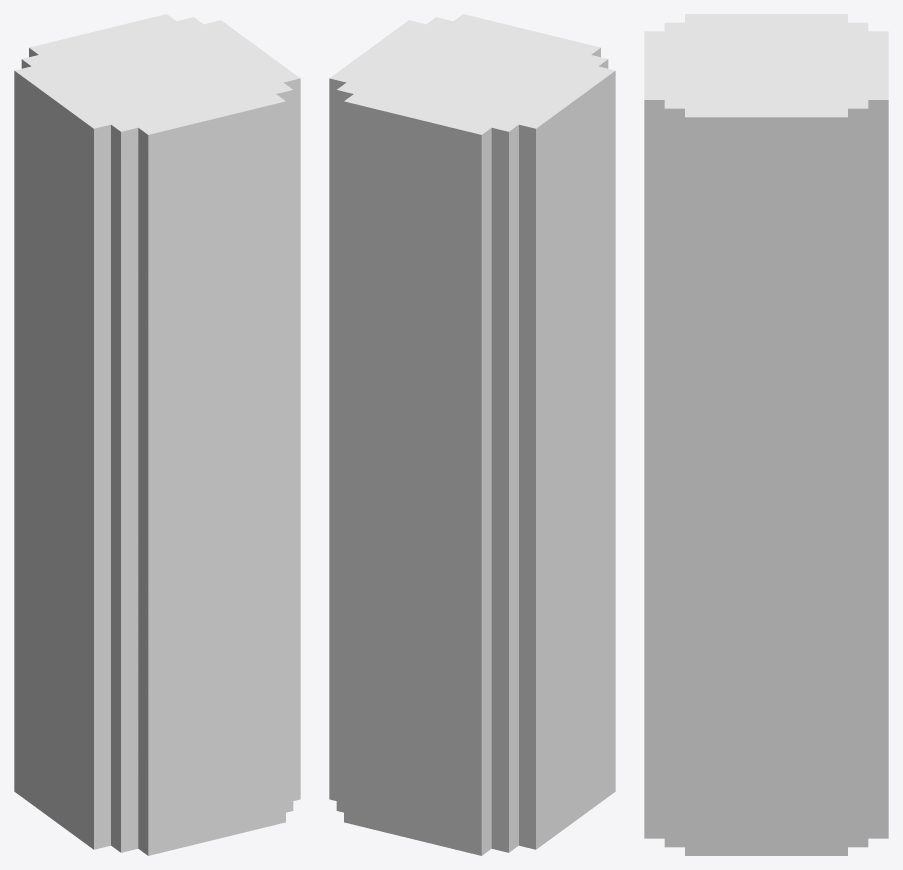
Rendered from CrystalPillar.dae.
3 views of the same model, side by side, from view 1: azimuth 30°, elevation 25°; view 2: azimuth 150°, elevation 25°; view 3: azimuth 270°, elevation 25° (orthographic). The views are drawn at different scales.
Visible parts, largest first — view 1: crystalpillar.merged; view 2: crystalpillar.merged; view 3: crystalpillar.merged.
Part boxes in pixels (bbox=[...]): crystalpillar.merged: bbox=[14, 14, 300, 855]; crystalpillar.merged: bbox=[329, 14, 615, 855]; crystalpillar.merged: bbox=[644, 14, 888, 855].
Size of the model in its own units: 1.2 by 4 by 1.2.
1 material, 1 textured.
